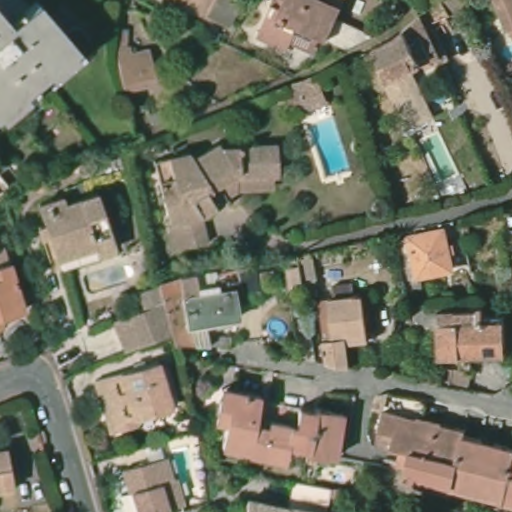pool: (308, 113, 354, 179), (415, 128, 460, 182), (166, 444, 198, 496), (264, 316, 288, 339)
